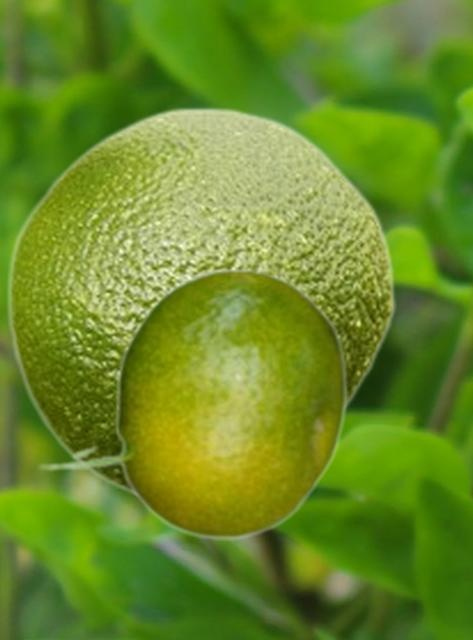calamansi: (5, 105, 395, 498), (37, 266, 347, 539)
